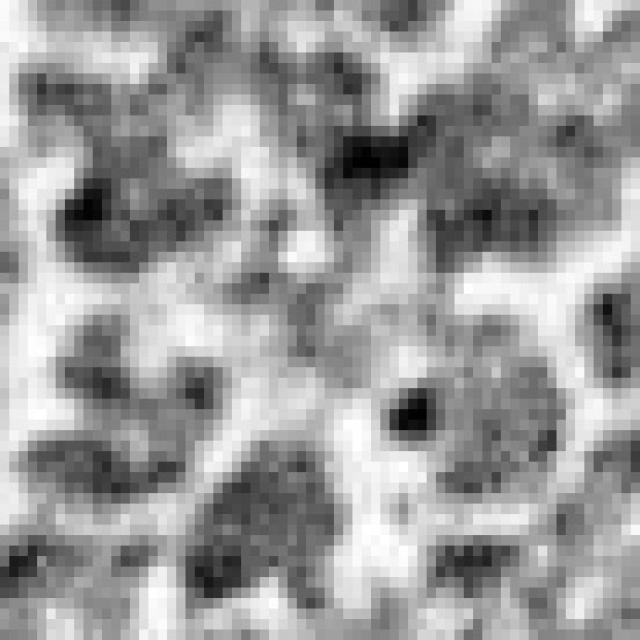inner: (185, 199, 444, 411)
lobe: (406, 78, 627, 275), (376, 311, 580, 508), (30, 312, 226, 499), (52, 108, 240, 284), (242, 40, 410, 227), (179, 435, 352, 604)
outer: (0, 0, 640, 640)
